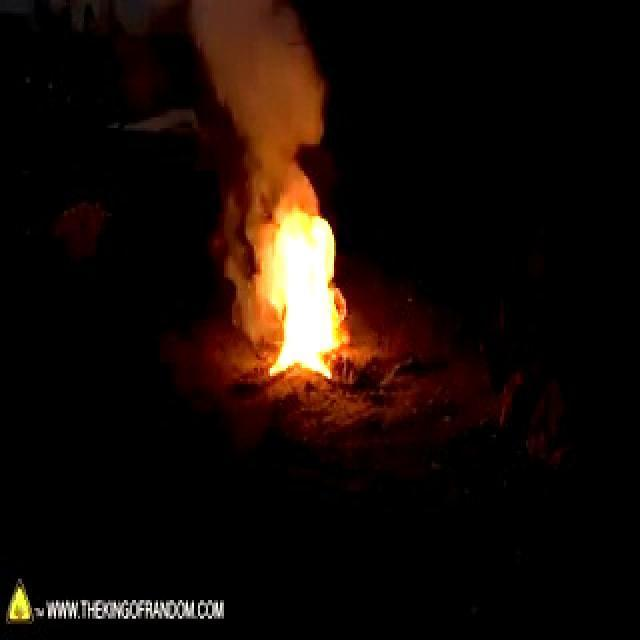Fire: (268, 194, 354, 382)
Smoke: (194, 2, 328, 190)
